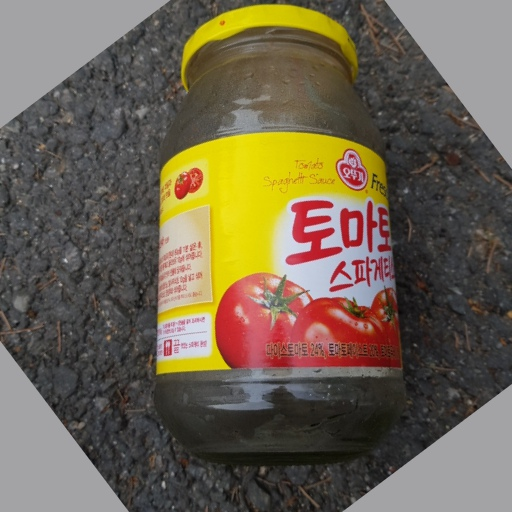Glass_5: (154, 1, 404, 460)
